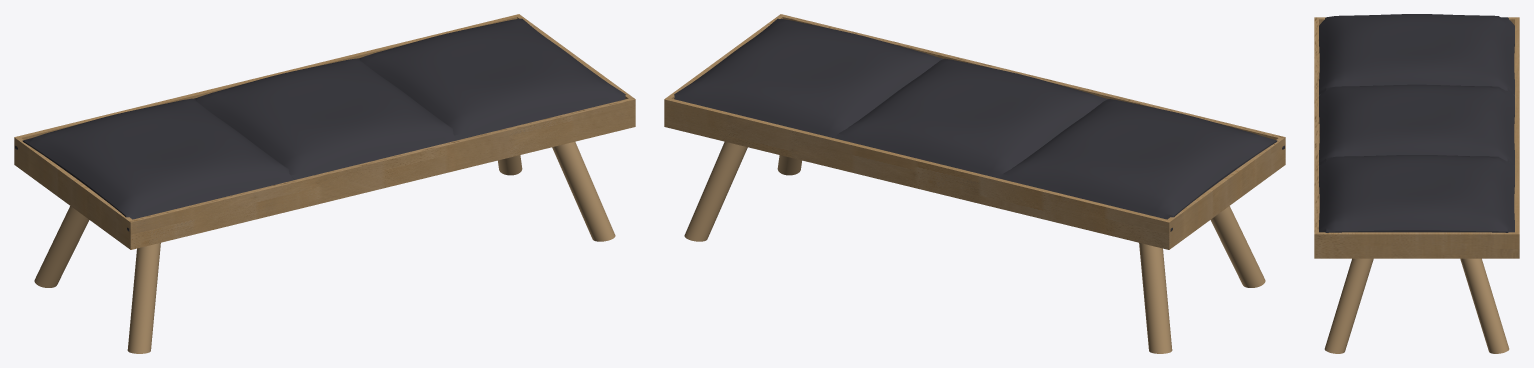
The model's file is bench0.glb.
3 renders of one model, left to right at view 1: azimuth 30°, elevation 25°; view 2: azimuth 150°, elevation 25°; view 3: azimuth 270°, elevation 25°, orthographic. The views are drawn at different scales.
Parts seen in each view (by area): view 1: Base, Cushion.001, Cushion, Cushion.002, Legs; view 2: Base, Cushion.001, Cushion, Cushion.002, Legs; view 3: Cushion.002, Cushion.001, Cushion, Base, Legs.
Boxes of the visible parts, bbox=[...] form: Base: bbox=[14, 14, 635, 249]; Cushion.001: bbox=[15, 98, 297, 231]; Cushion: bbox=[194, 58, 462, 179]; Cushion.002: bbox=[359, 18, 625, 139]; Legs: bbox=[34, 142, 615, 353]; Base: bbox=[664, 14, 1285, 249]; Cushion.001: bbox=[1002, 99, 1284, 231]; Cushion: bbox=[837, 58, 1108, 179]; Cushion.002: bbox=[674, 18, 943, 139]; Legs: bbox=[684, 142, 1265, 353]; Cushion.002: bbox=[1319, 155, 1514, 232]; Cushion.001: bbox=[1319, 14, 1514, 95]; Cushion: bbox=[1319, 84, 1514, 166]; Base: bbox=[1314, 17, 1519, 258]; Legs: bbox=[1324, 258, 1509, 353].
Bounding box in the file's own units: 5.01 × 1.52 × 2.
2 materials, 1 textured.
